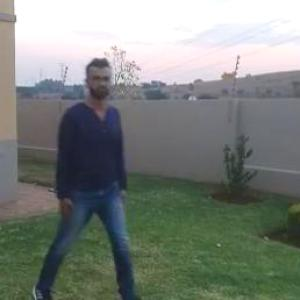follow: (52, 64, 122, 271)
